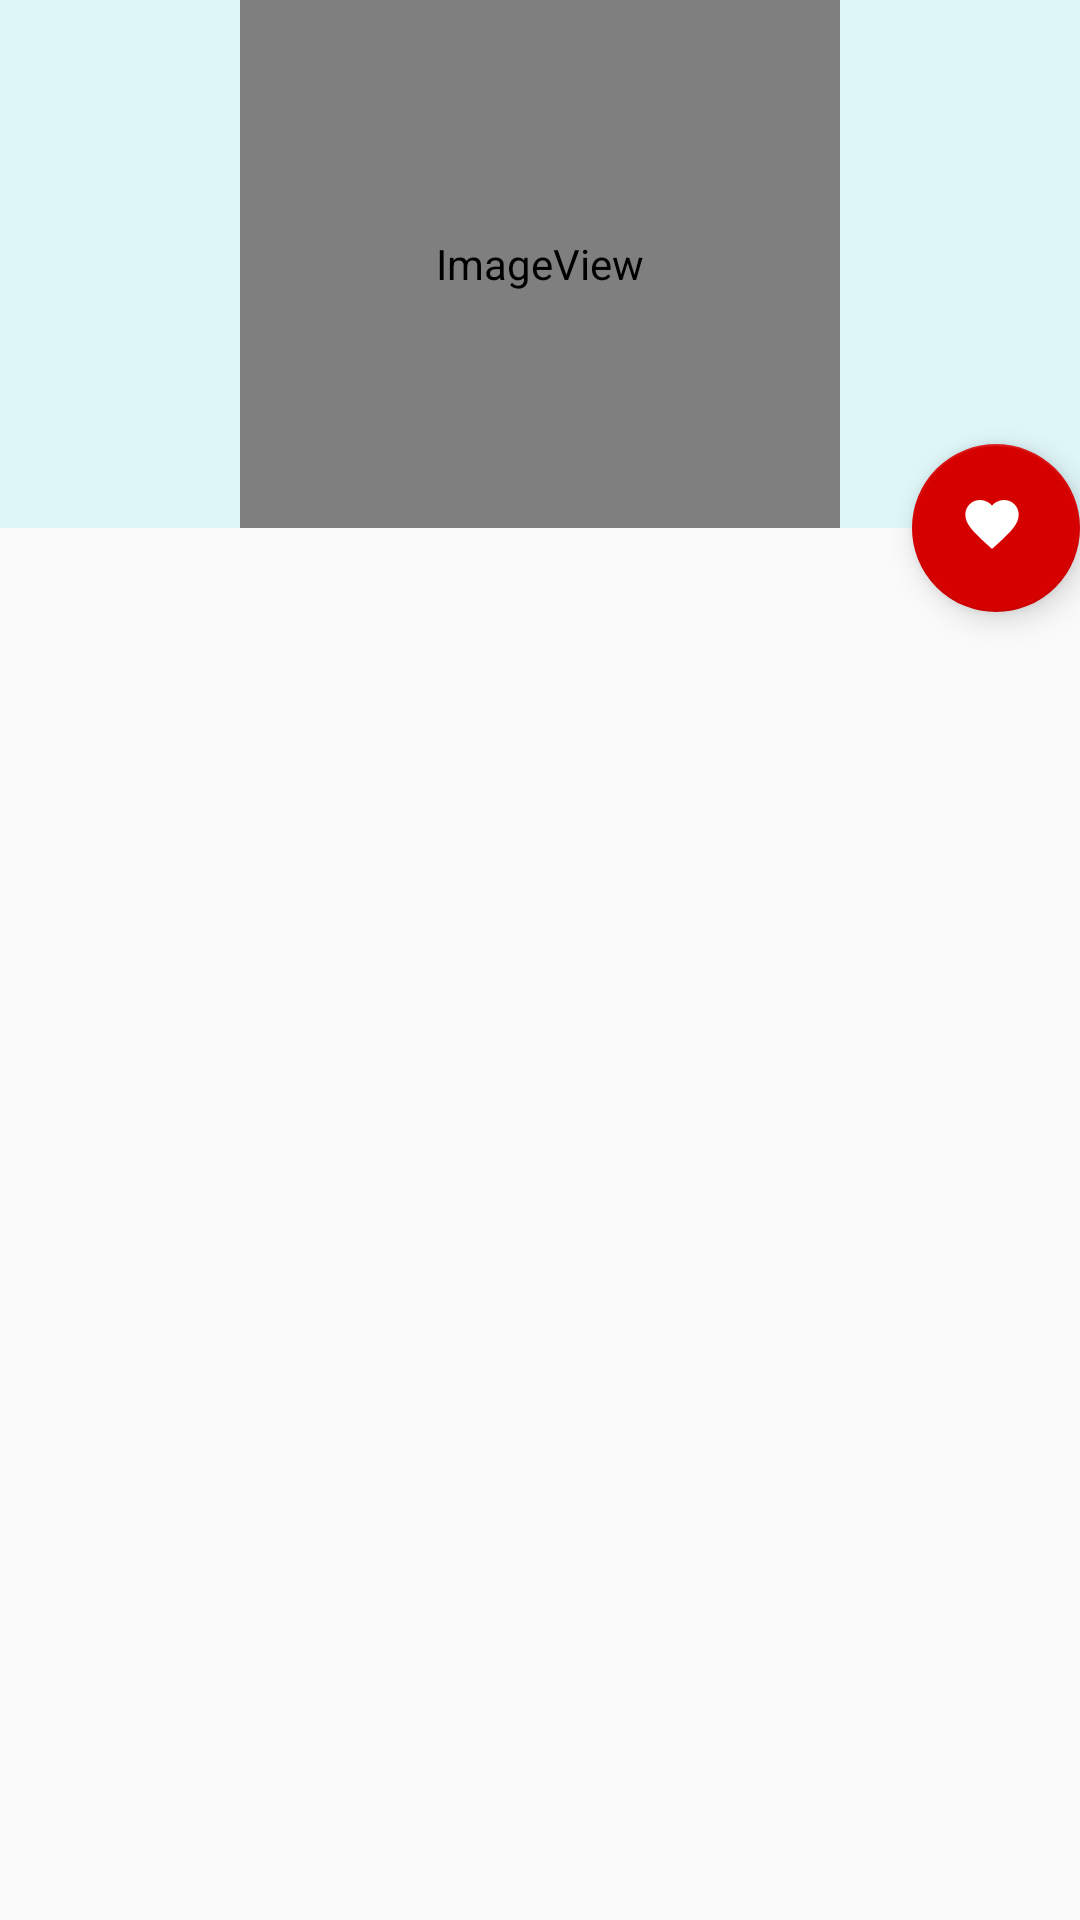

Screen size 1080px x 1920px. Icon name, then its center in pixels as (x=x, y=y):
life: (x=996, y=528)
